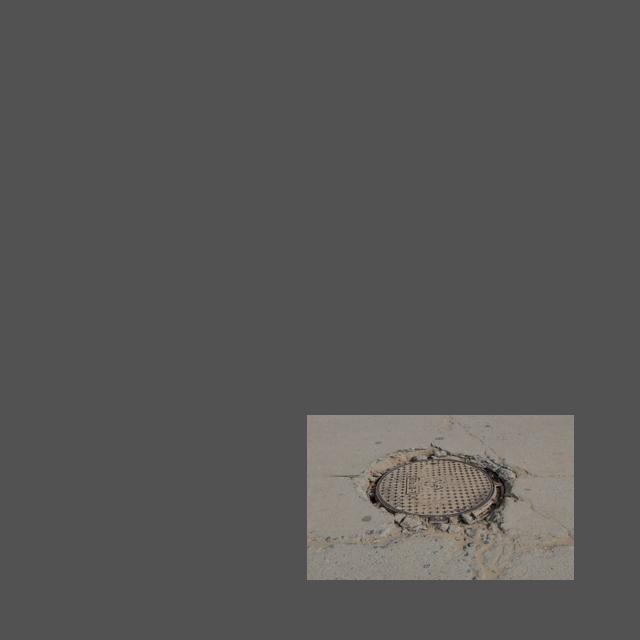circle: (346, 444, 527, 536)
